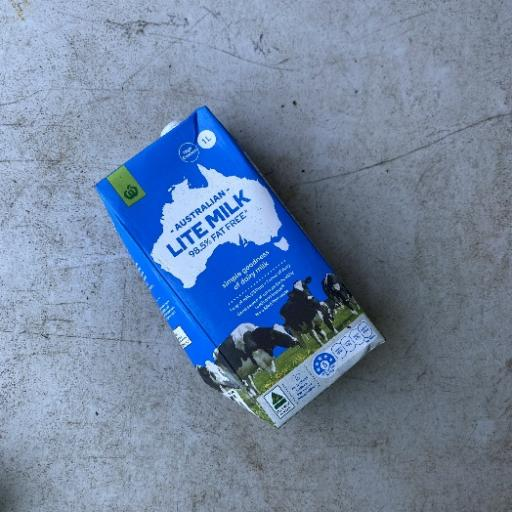Cardboard: (92, 103, 387, 430)
